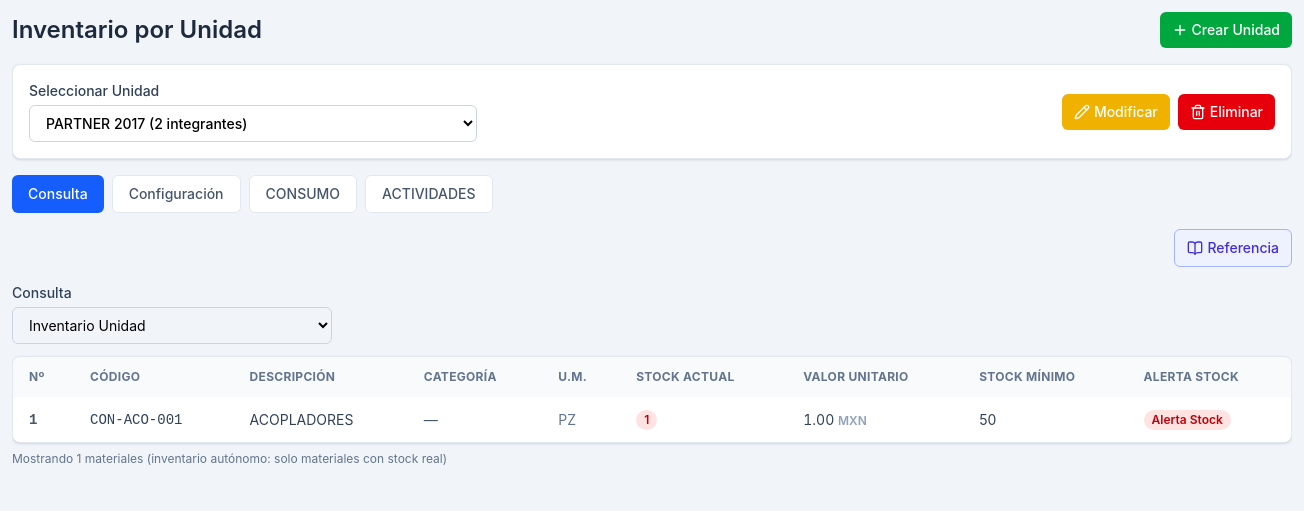
Test: Consulta de Unidad (RF-9..RF-16) › RF-12 REQ-UNI-013: lista integrantes y cantidad; vacío si no hay
Select "Integrantes" in the dropdown labelled "Consulta": (172, 326) [12, 307, 332, 344]
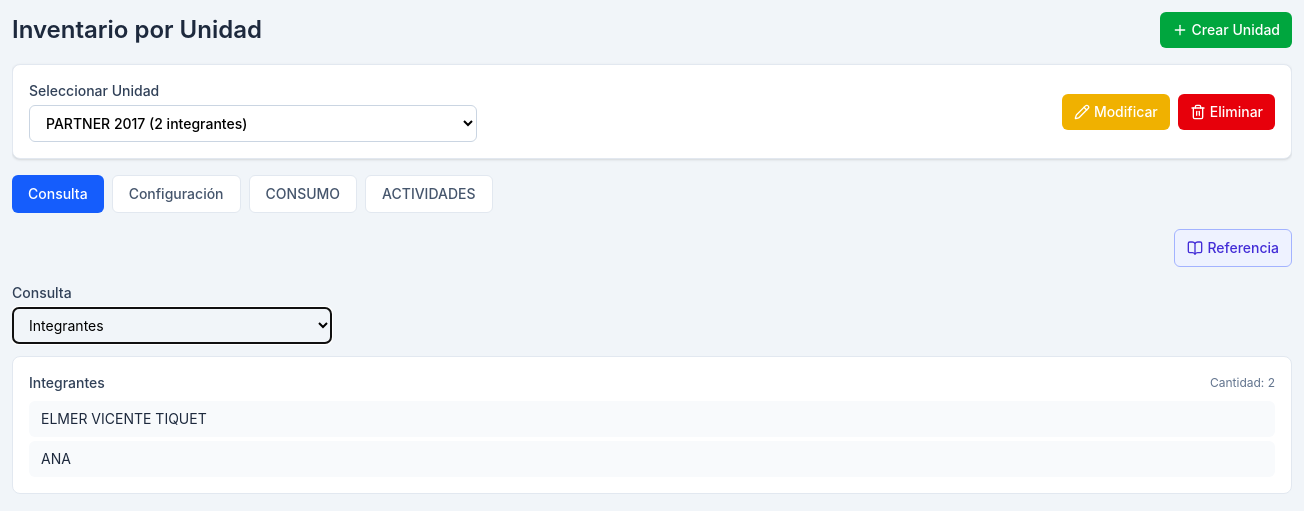
Check: the list items read "ELMER VICENTE TIQUET", "ANA", in this order, box [29, 401, 1275, 437]; [29, 441, 1275, 477]
Check: the text "Cantidad: 2" is shown, box [1210, 375, 1275, 391]
Select "SIN DATOS (0 integrantes)" in the dropdown labelled "Seleccionar Unidad": (253, 124) [29, 105, 477, 142]
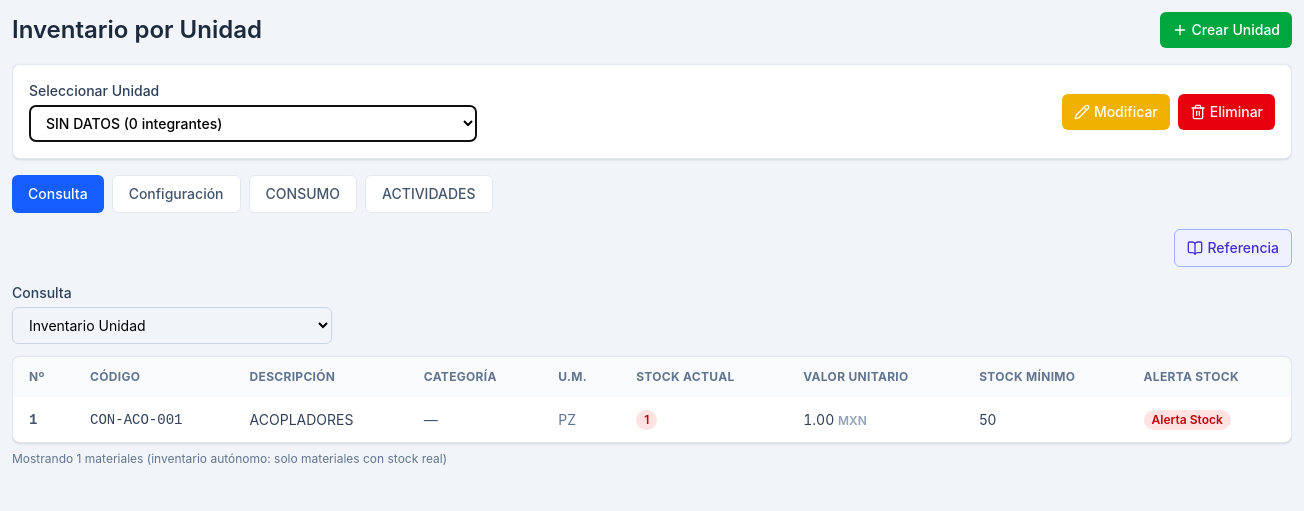
Select "Integrantes" in the dropdown labelled "Consulta": (172, 326) [12, 307, 332, 344]
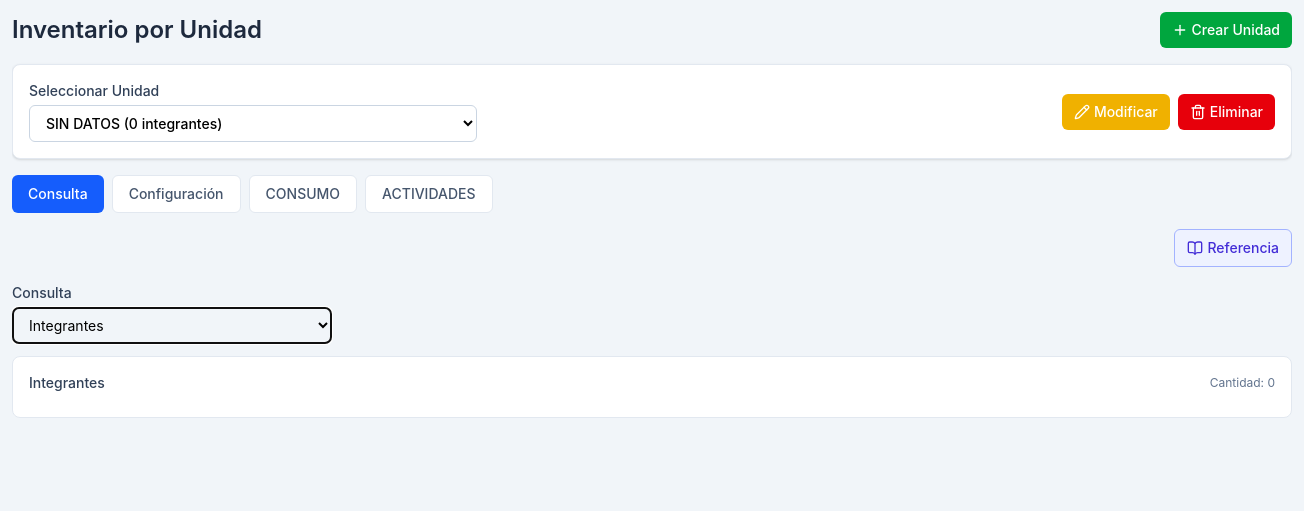
Check: the text "Cantidad: 0" is shown, box [1210, 375, 1275, 391]
